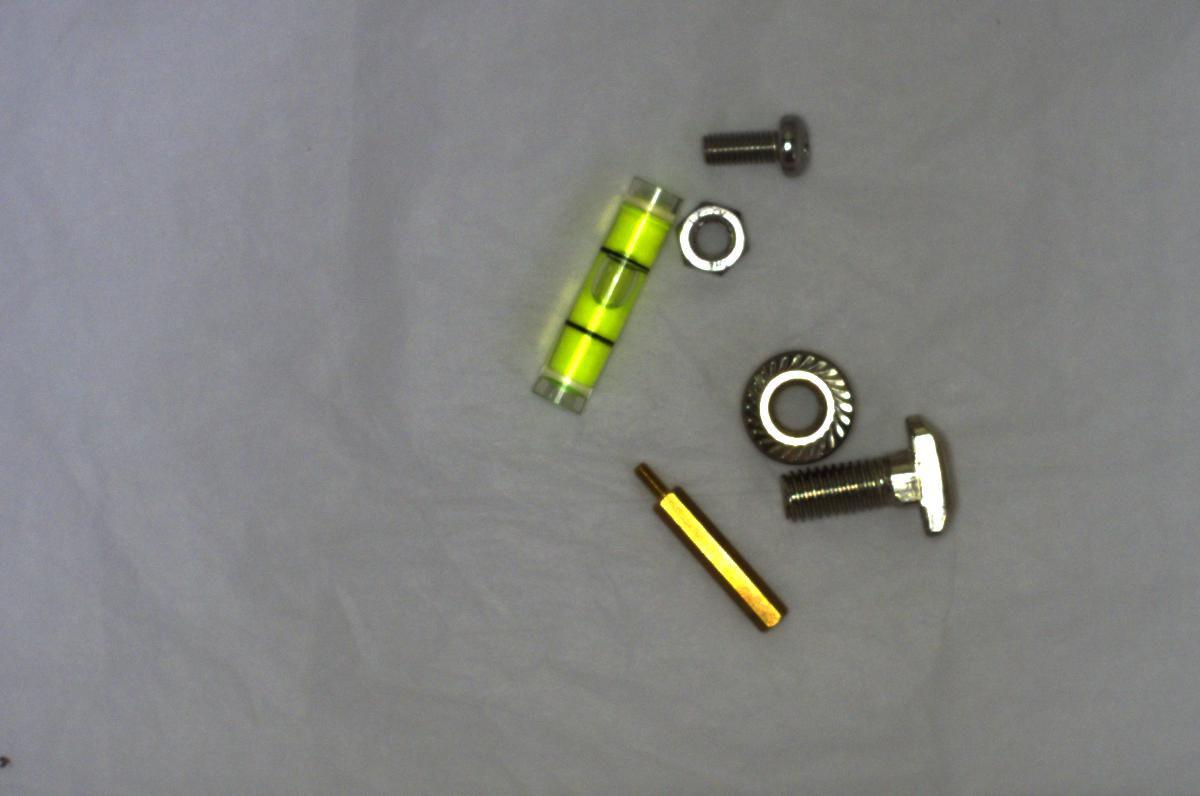Flange nut: (730, 338, 853, 461)
Hexagon nut: (675, 199, 751, 276)
Hexagon pillar: (621, 454, 791, 638)
Horizontal bubble: (531, 166, 675, 420)
Round head screw: (697, 102, 819, 182)
T-shaped screw: (779, 418, 961, 539)
